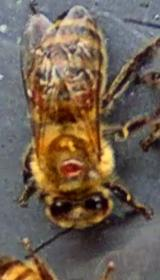varroa_mite: (67, 76, 106, 114), (50, 155, 99, 183)
